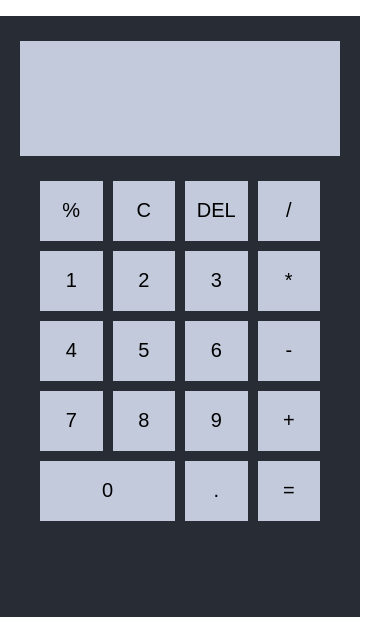
Test: Operation › Resta
This screenshot has width=377, height=634.
Expected: the element titled "Displa" is empty, [20, 41, 340, 156]
Click the button "2": (144, 281) [112, 251, 175, 311]
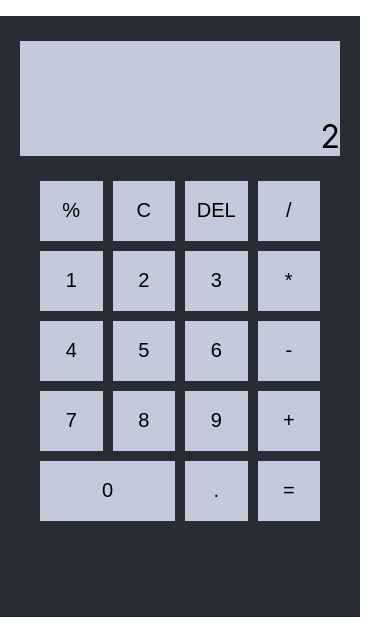
Click the button "-": (289, 351) [258, 321, 320, 381]
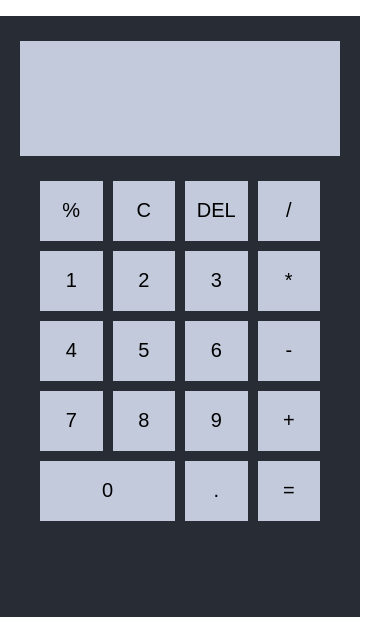
Click the button "3": (216, 281) [185, 251, 248, 311]
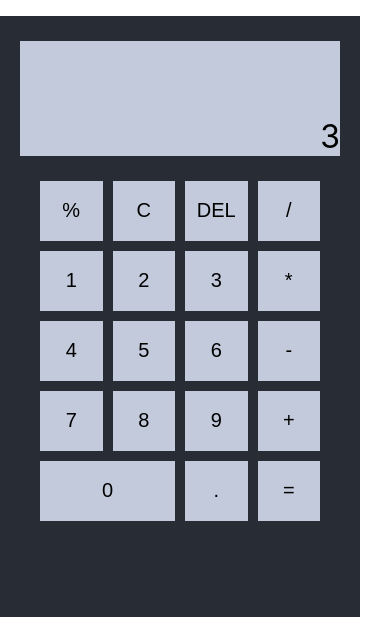
Click the button "=": (289, 491) [258, 461, 320, 521]
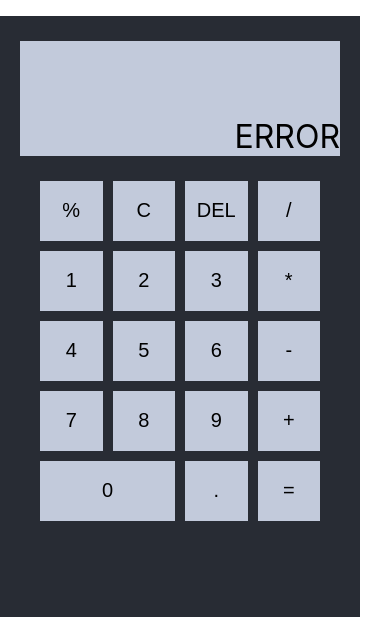
Result: the text titled "Displa" reads "ERROR" at [234, 117, 340, 156]
